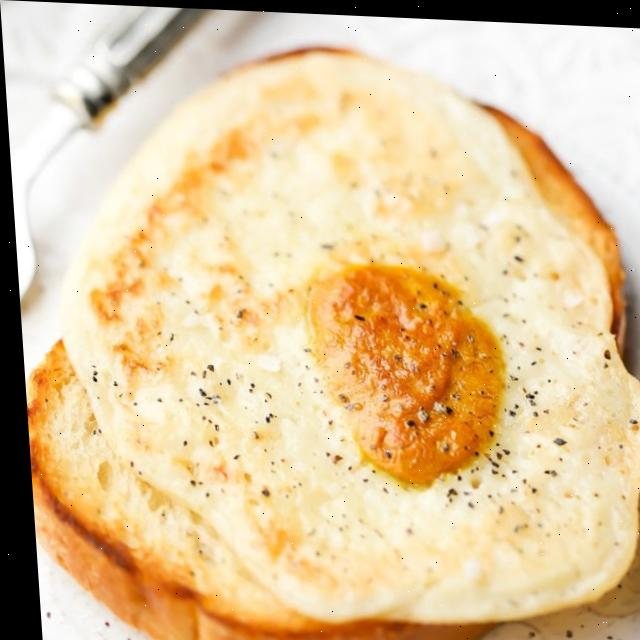Egg: (57, 46, 640, 619)
